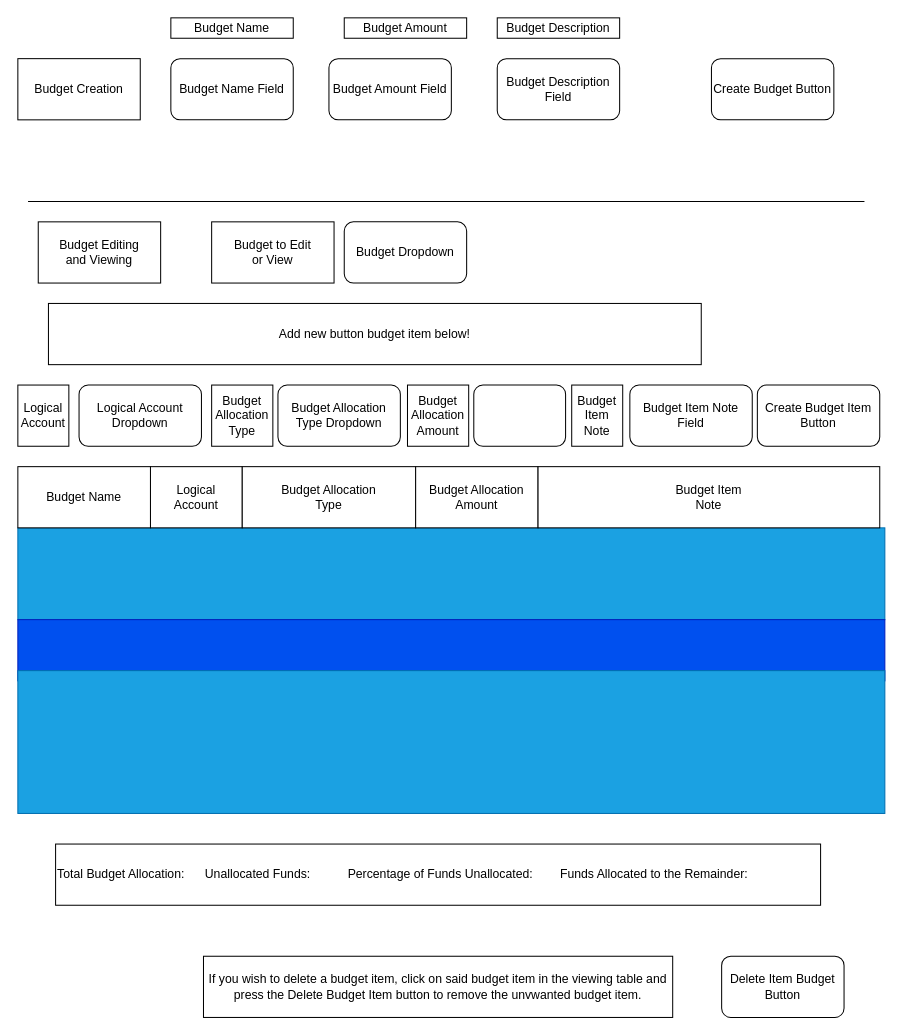
This 903x1035 diagram has some shape labels left out. Each missing label, with the centre of its shape:
"Budget Allocation Amount Field" goes at point (519, 415).
"Item 1" goes at point (451, 573).
"Item 2" goes at point (451, 650).
"Item 3" goes at point (451, 741).
